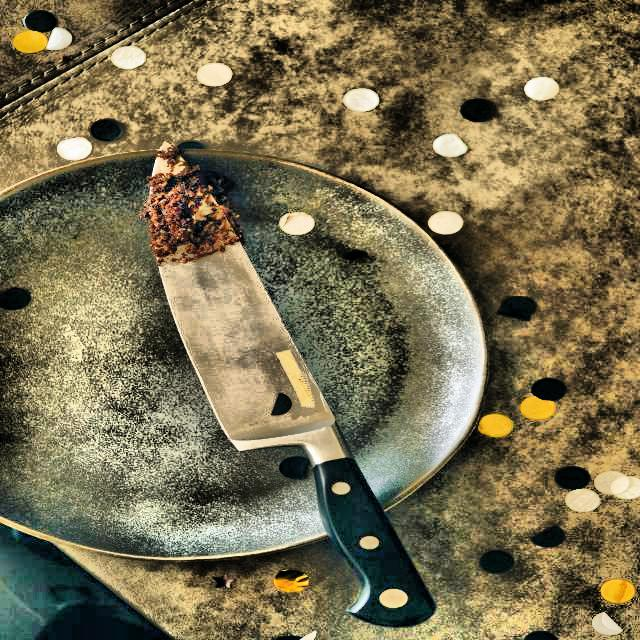knife: (142, 141, 444, 624)
